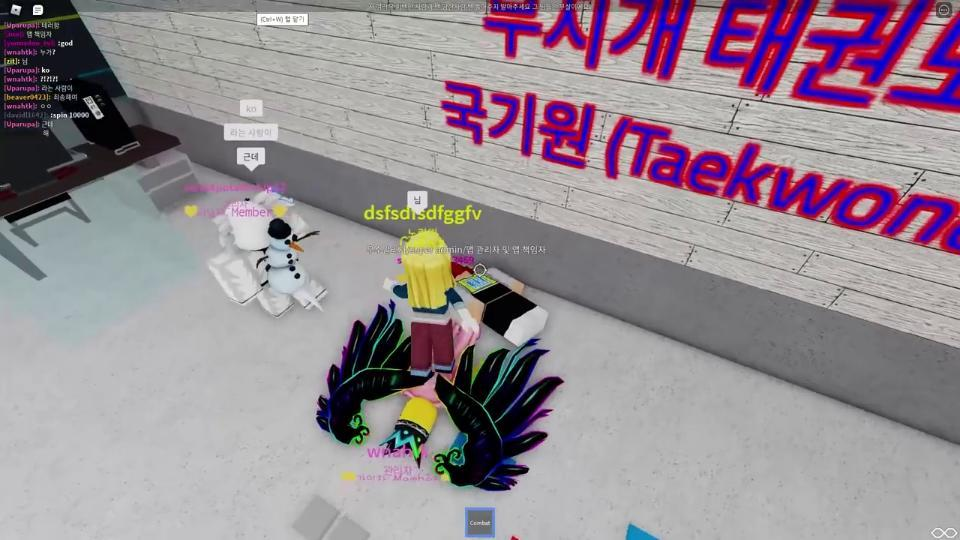Character: (315, 300, 564, 493), (209, 188, 328, 319), (384, 230, 479, 375), (450, 262, 549, 348)
